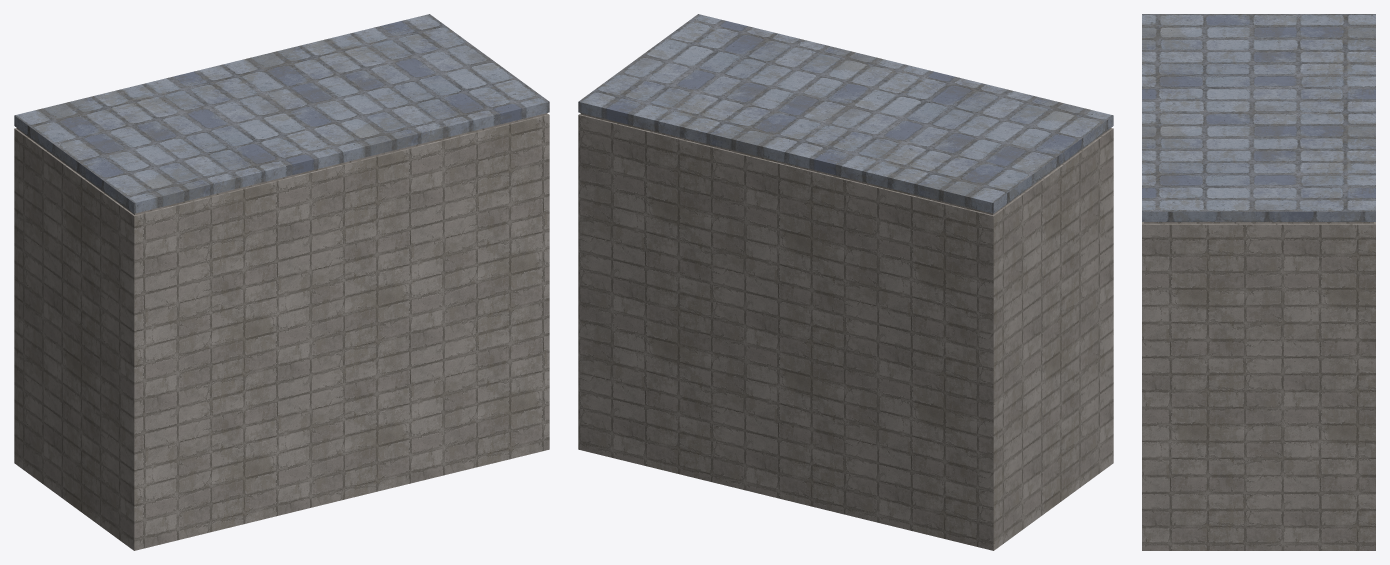
The model's file is SewerSet5_12mV1.fbx.
3 renders of one model, left to right at view 1: azimuth 30°, elevation 25°; view 2: azimuth 150°, elevation 25°; view 3: azimuth 270°, elevation 25°, orthographic. The views are drawn at different scales.
Parts seen in each view (by area): view 1: Box087; view 2: Box087; view 3: Box087.
Part boxes in pixels (x1,y1,x2,y2): Box087: [14, 14, 549, 550]; Box087: [578, 14, 1113, 550]; Box087: [1142, 14, 1375, 550].
Size of the model in its own units: 2500 by 2000 by 1250.
